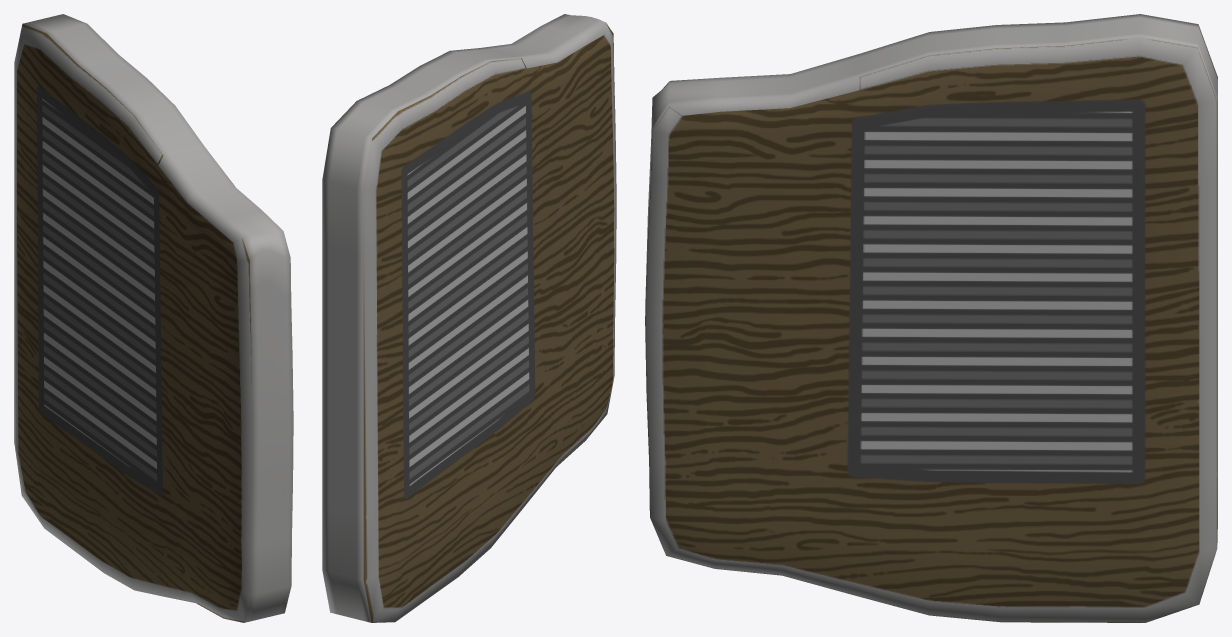
The model's file is Door_Animated_Textured_Both_Sides.fbx.
The picture shows the model from 3 angles, left to right: view 1: azimuth 30°, elevation 25°; view 2: azimuth 150°, elevation 25°; view 3: azimuth 270°, elevation 25°; orthographic projection. The views are drawn at different scales.
Visible parts, largest first — view 1: pasted__polySurface12; view 2: pasted__polySurface12; view 3: pasted__polySurface12.
Boxes of the visible parts, box(x1,y1,x2,y2) form: pasted__polySurface12: box(14, 14, 293, 622); pasted__polySurface12: box(322, 14, 616, 622); pasted__polySurface12: box(645, 14, 1217, 622).
Bounding box in the file's own units: 0.1187 × 0.9805 × 0.8693.
Materials: 1 (1 with a texture image).
